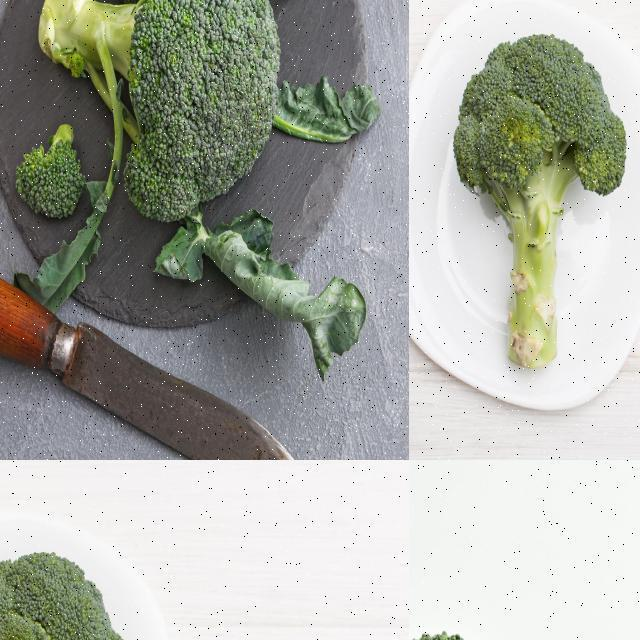broccoli: (451, 23, 628, 374), (10, 0, 280, 218), (0, 541, 130, 639)
